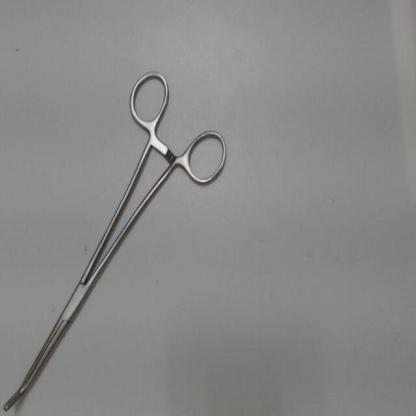Lahey Forceps: (0, 62, 236, 412)
